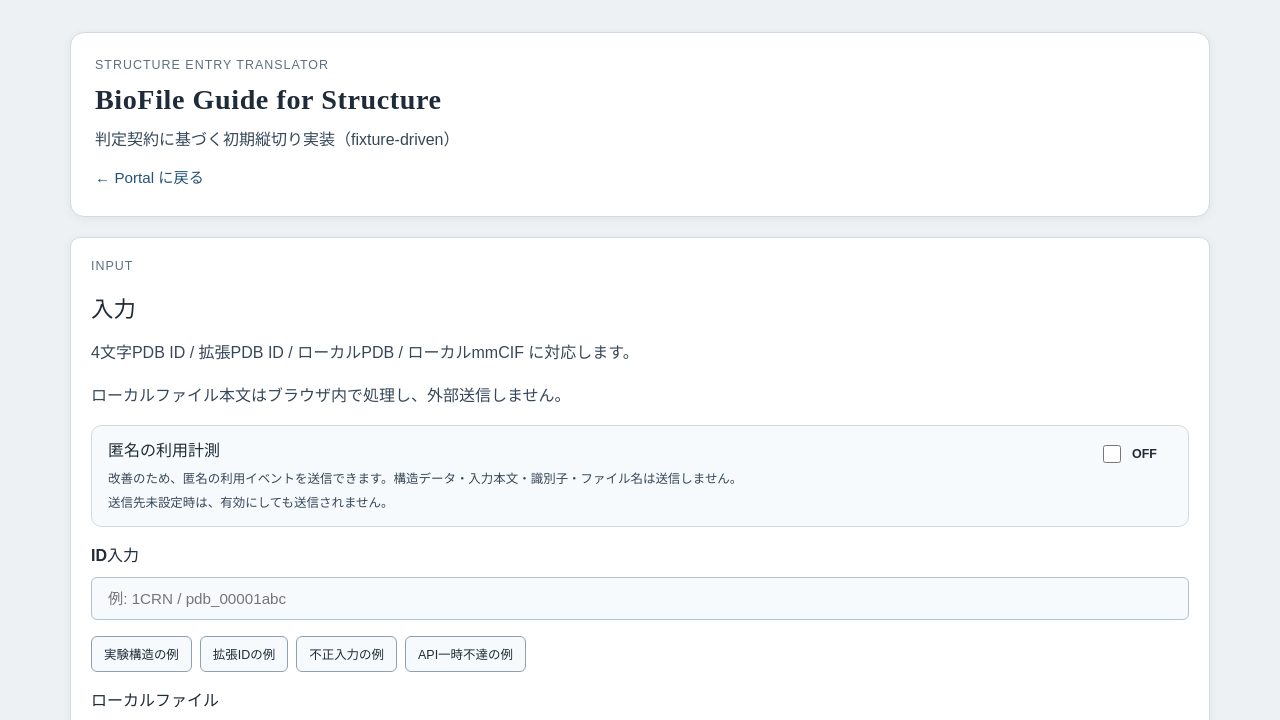
Test: App anonymous telemetry integration › stores telemetry opt-in changes with the existing storage key
Click the switch labelled "匿名の利用計測" at (1112, 454), box [1103,445,1121,463]
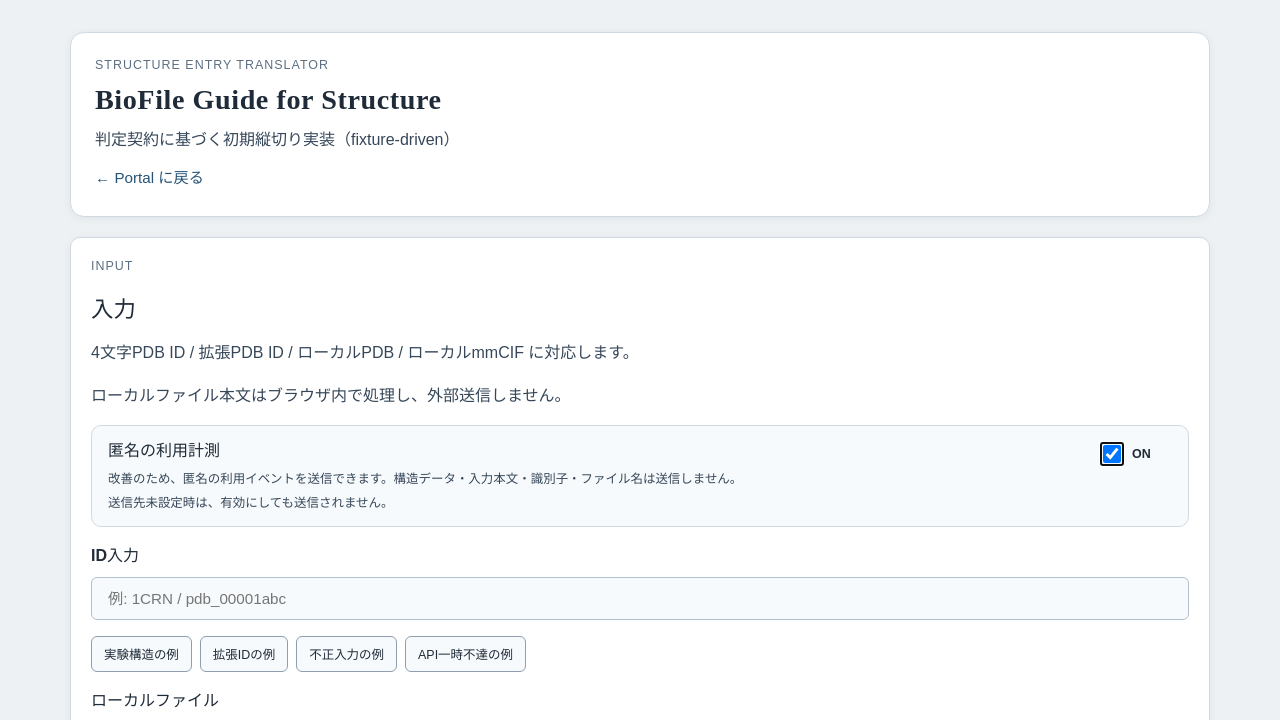
Check: the switch labelled "匿名の利用計測" is checked
Check: the text "ON" is shown, box [1132,447,1151,461]
Click the switch labelled "匿名の利用計測" at (1112, 454), box [1103,445,1121,463]
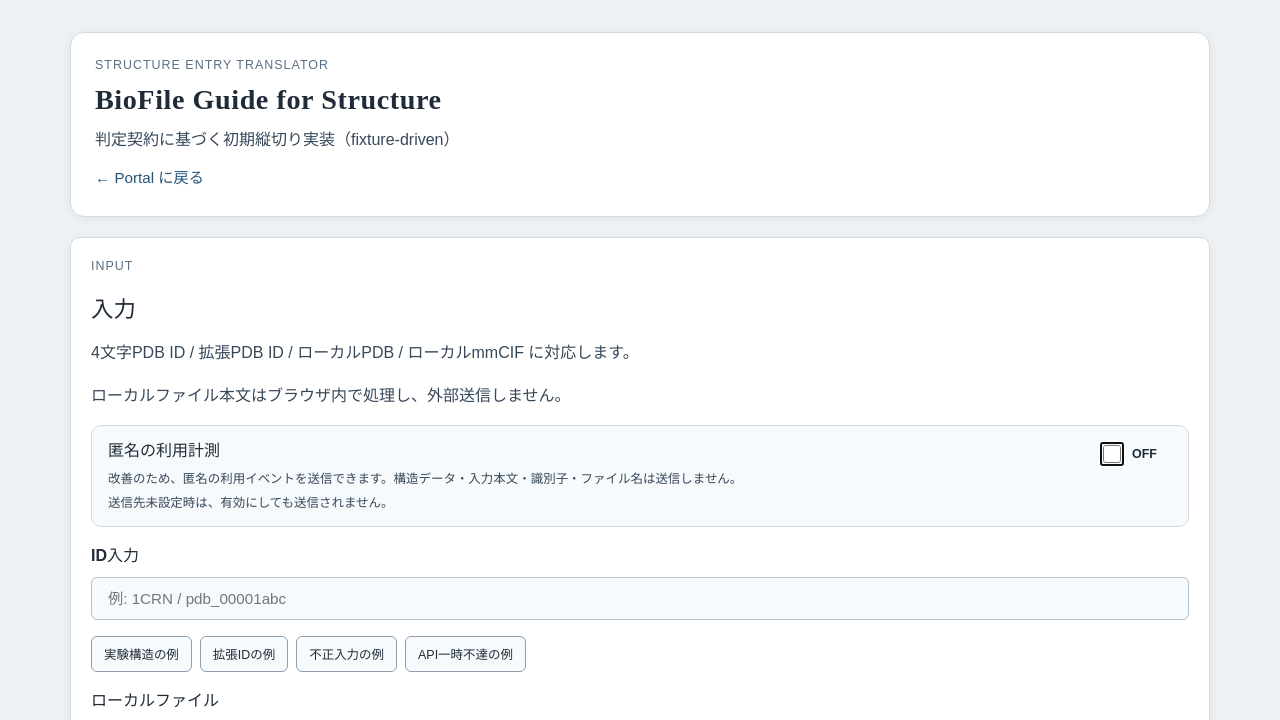
Check: the switch labelled "匿名の利用計測" is not checked, box [1103,445,1121,463]
Check: the text "OFF" is shown, box [1132,447,1157,461]
